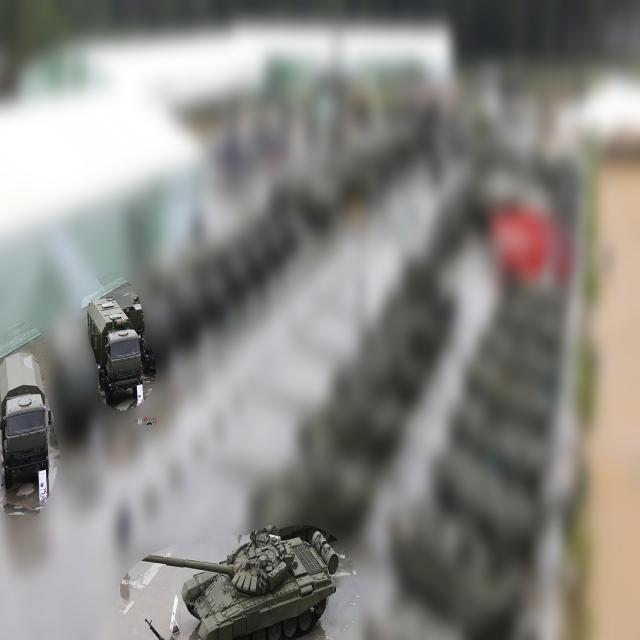tank: (139, 524, 345, 640)
